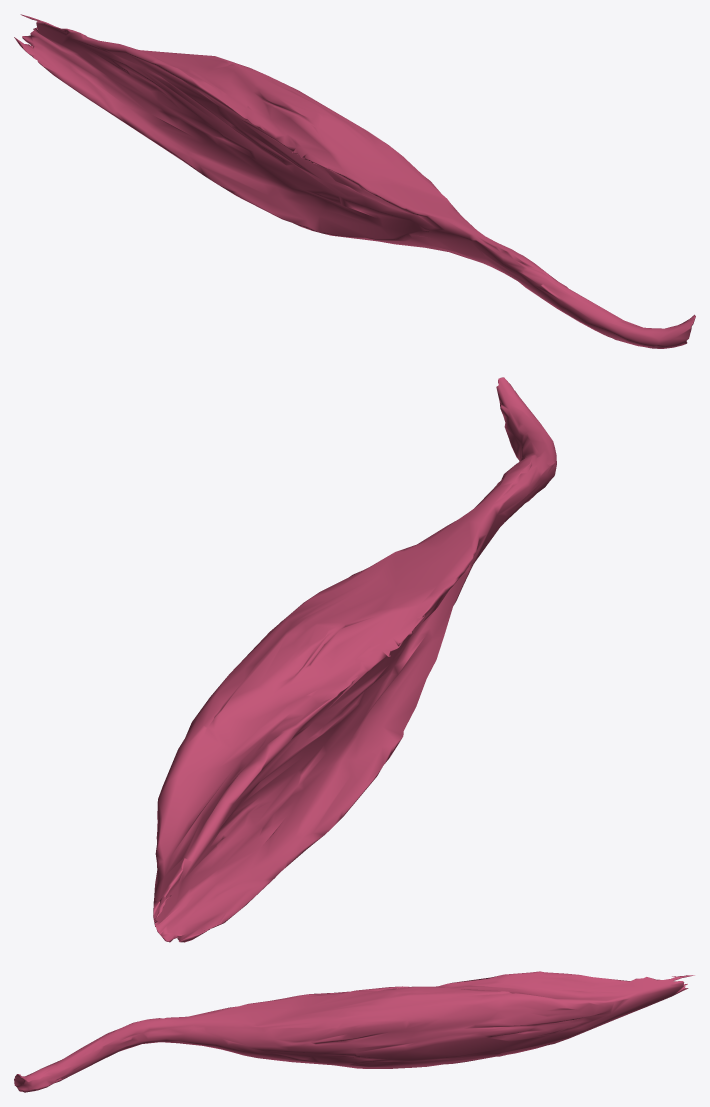
3 renders of one model, top to bottom at view 1: azimuth 30°, elevation 25°; view 2: azimuth 150°, elevation 25°; view 3: azimuth 270°, elevation 25°, orthographic. The views are drawn at different scales.
Visible parts, largest first — view 1: 右侧肱二头肌短头; view 2: 右侧肱二头肌短头; view 3: 右侧肱二头肌短头.
Boxes of the visible parts, x1,y1,x2,y2 form: 右侧肱二头肌短头: [14, 14, 695, 348]; 右侧肱二头肌短头: [153, 377, 556, 942]; 右侧肱二头肌短头: [14, 971, 694, 1092].
Size of the model in its own units: 0.1201 by 0.0507 by 0.4023.
